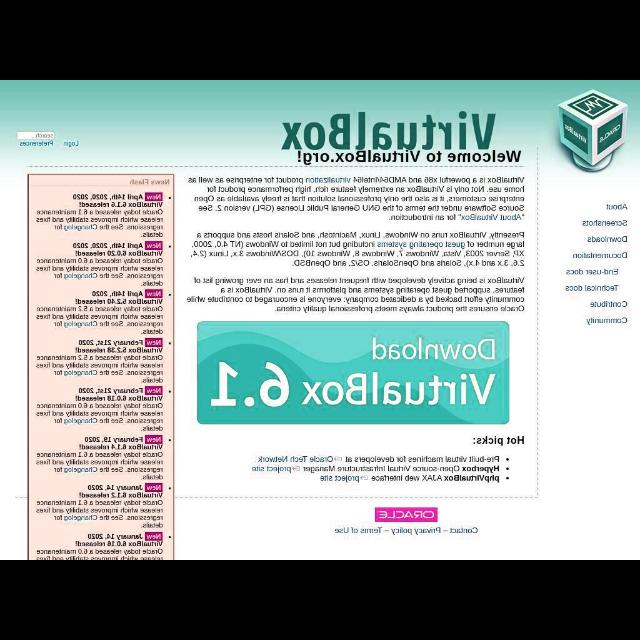backgroundimage: (3, 83, 637, 559)
button: (198, 322, 508, 424)
icon: (333, 456, 342, 462), (292, 466, 300, 472), (359, 476, 368, 480)
image: (556, 90, 630, 170), (376, 508, 436, 522)
input: (17, 132, 53, 140)
text: (188, 174, 526, 222), (187, 276, 525, 318), (189, 231, 525, 267), (279, 110, 495, 152), (36, 386, 164, 432), (36, 242, 162, 286), (37, 290, 163, 334), (36, 436, 162, 480), (35, 341, 163, 384), (36, 483, 162, 525), (37, 532, 163, 560), (36, 210, 162, 237), (296, 152, 522, 164), (303, 465, 509, 473), (72, 192, 162, 208), (372, 474, 506, 484), (345, 456, 509, 464), (258, 456, 330, 464), (473, 436, 525, 446), (572, 252, 628, 260), (566, 268, 618, 276), (390, 527, 440, 535), (587, 317, 627, 325), (566, 285, 618, 291), (334, 527, 382, 533), (590, 300, 626, 308), (584, 220, 626, 226), (251, 466, 289, 472), (320, 476, 358, 482), (588, 237, 626, 243), (20, 141, 54, 147), (450, 528, 478, 534), (606, 203, 626, 210), (32, 134, 52, 138), (64, 142, 78, 146)
